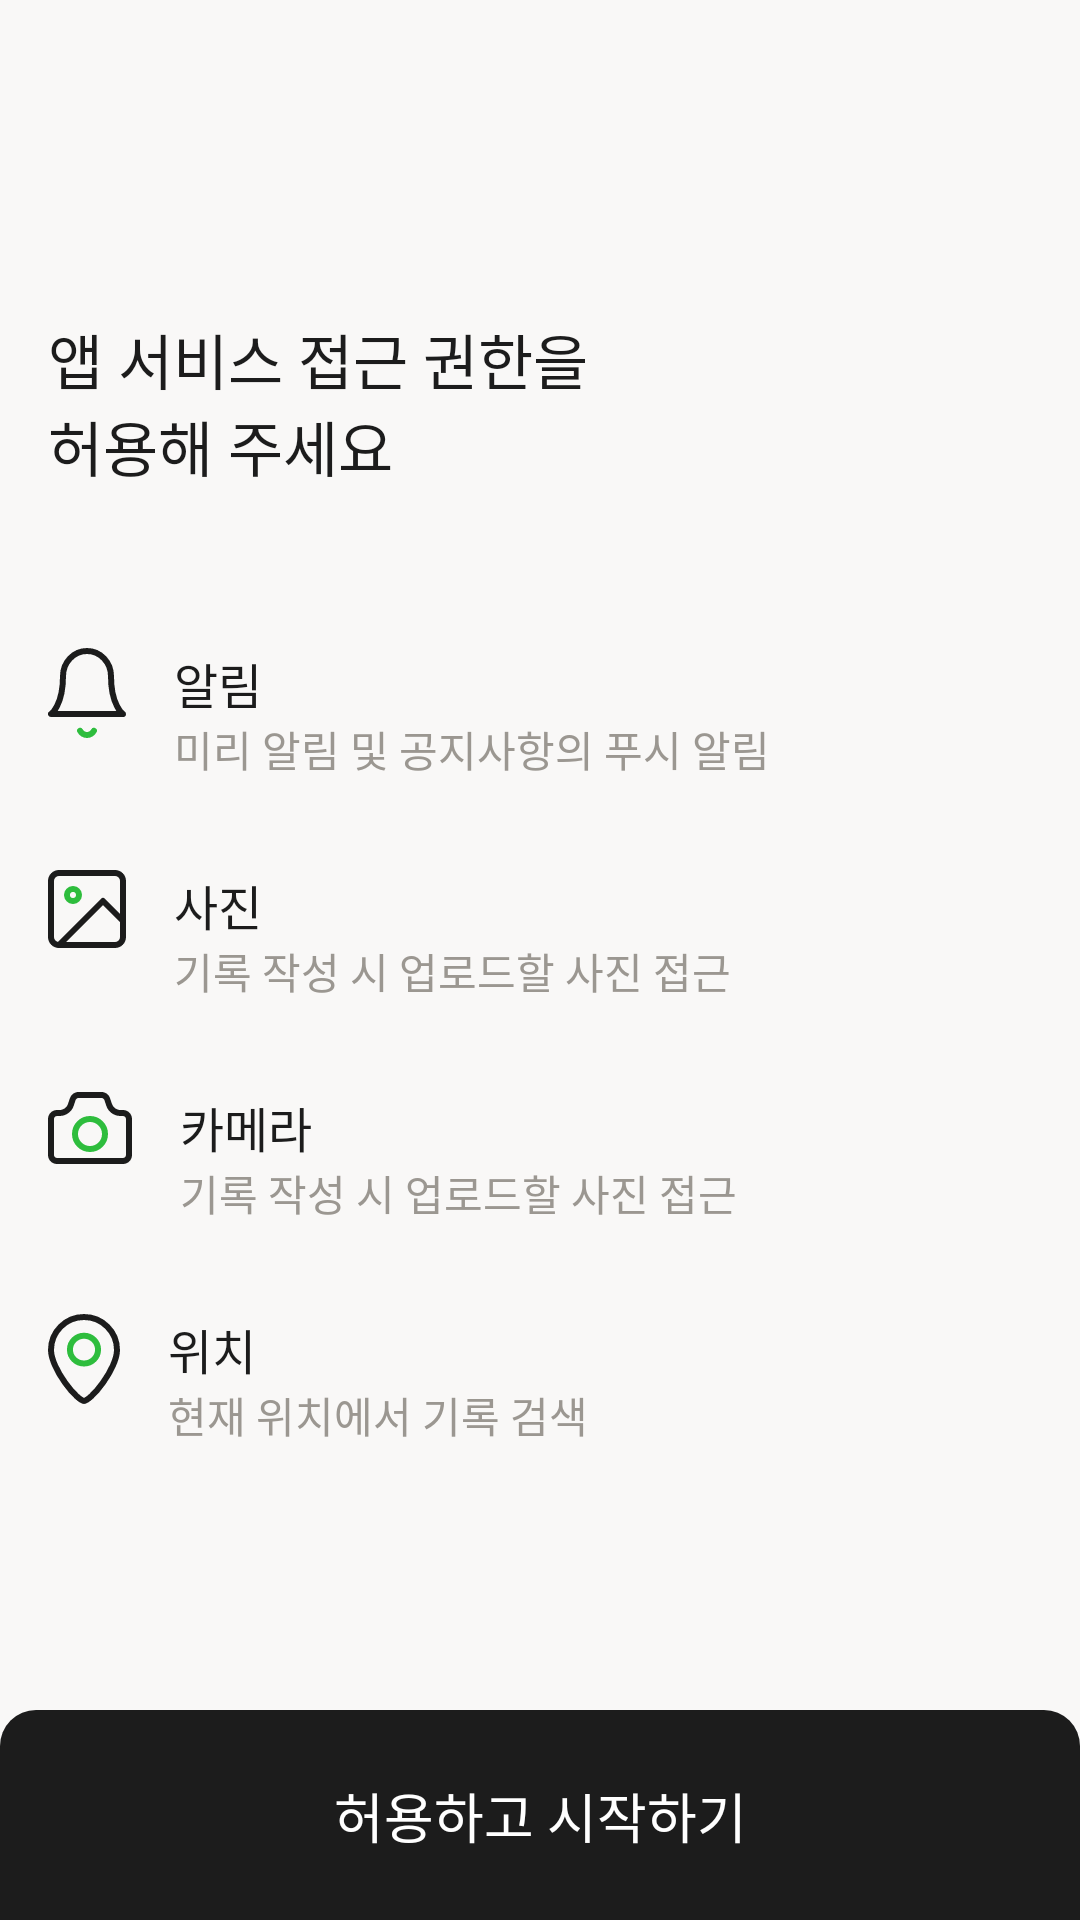

Where to tap for icons on this 1080x1920 app screen, as (x,y):
request permission alarm: (87,693)
request permission camera: (90,1128)
request permission gallery: (87,909)
request permission location: (84,1359)
